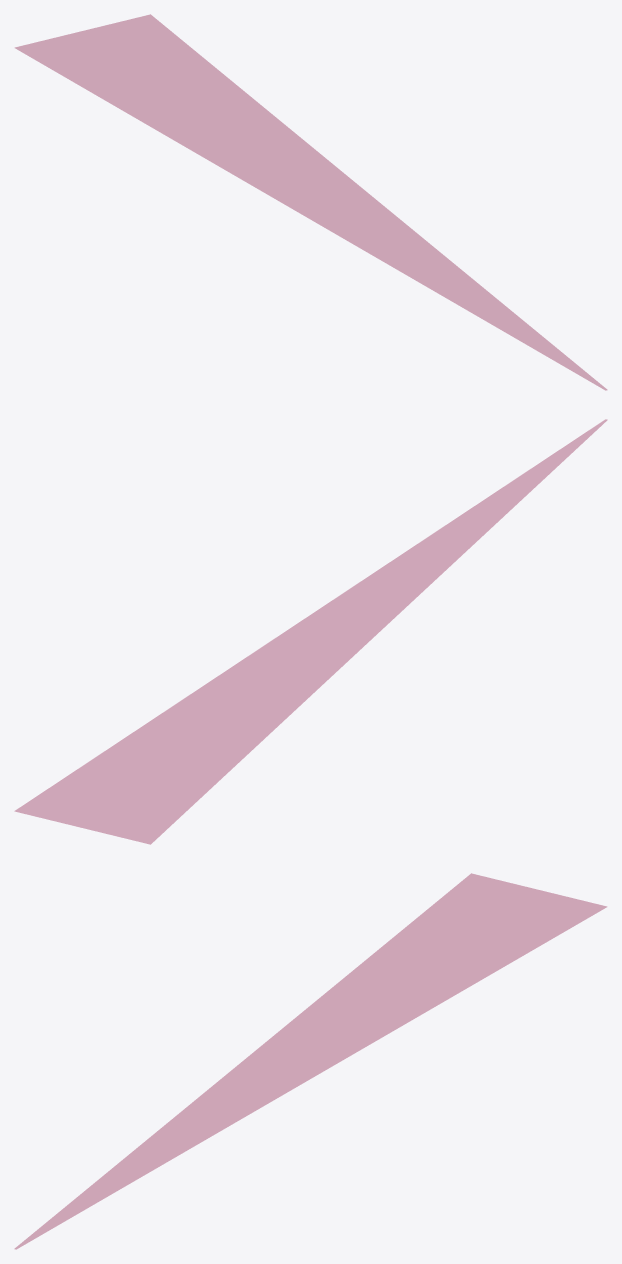
Rendered from Things.dae.
3 renders of one model, top to bottom at view 1: azimuth 30°, elevation 25°; view 2: azimuth 150°, elevation 25°; view 3: azimuth 330°, elevation 25°, orthographic.
Parts seen in each view (by area): view 1: Plane; view 2: Plane; view 3: Plane.
Boxes of the visible parts, <box> form: Plane: <box>14,14,607,390</box>; Plane: <box>14,419,607,844</box>; Plane: <box>14,873,607,1249</box>.
Size of the model in its own units: 1.34 by 8.91 by 0.2304.
